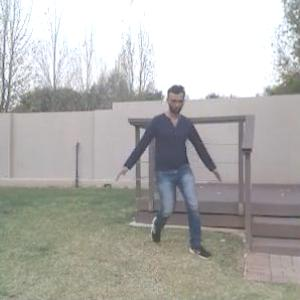land: (117, 81, 222, 264)
